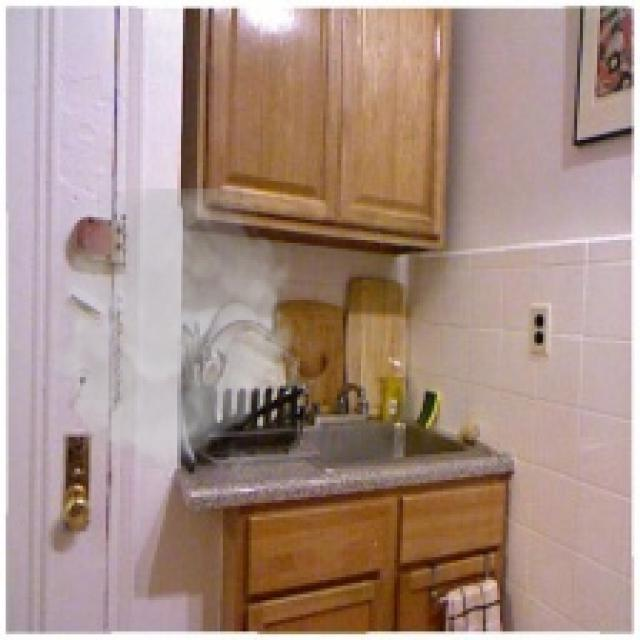Smoke: (40, 188, 303, 468)
